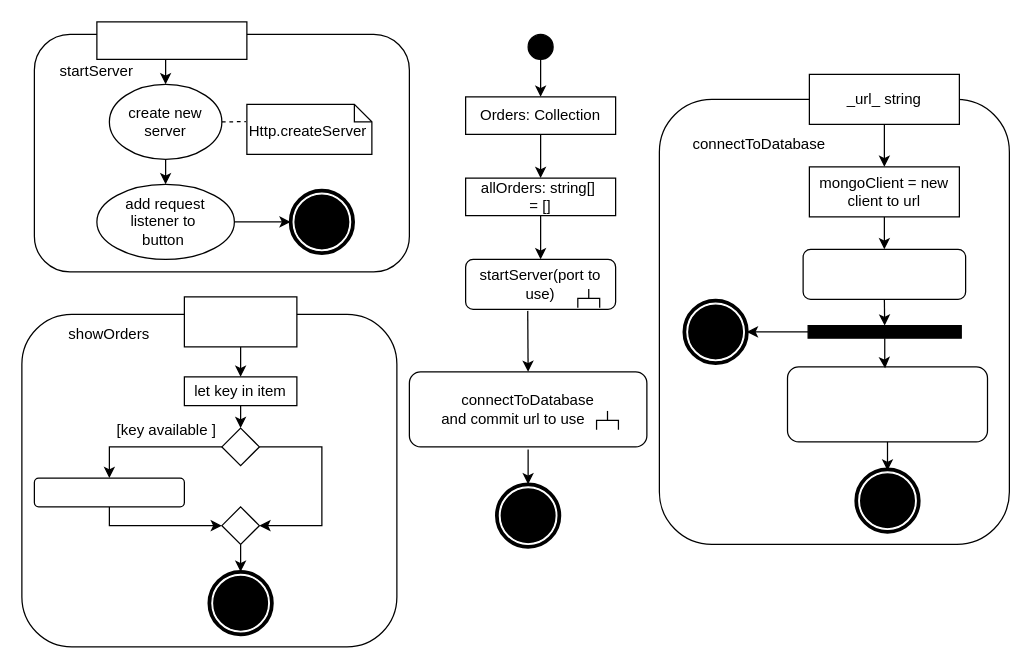
Some shapes in this 1031 by 669 pixel diagram are drawn without their labels. Here are the shapes that lost their labels. From the top down, the centre of each, then its label:
[171,40]: _port: number | string
[884,273]: mongoClient.connect()
[240,321]: _item: object
[887,404]: orders = database("pictures") collection("drawings")
[108,492]: allOrders.push(key)
